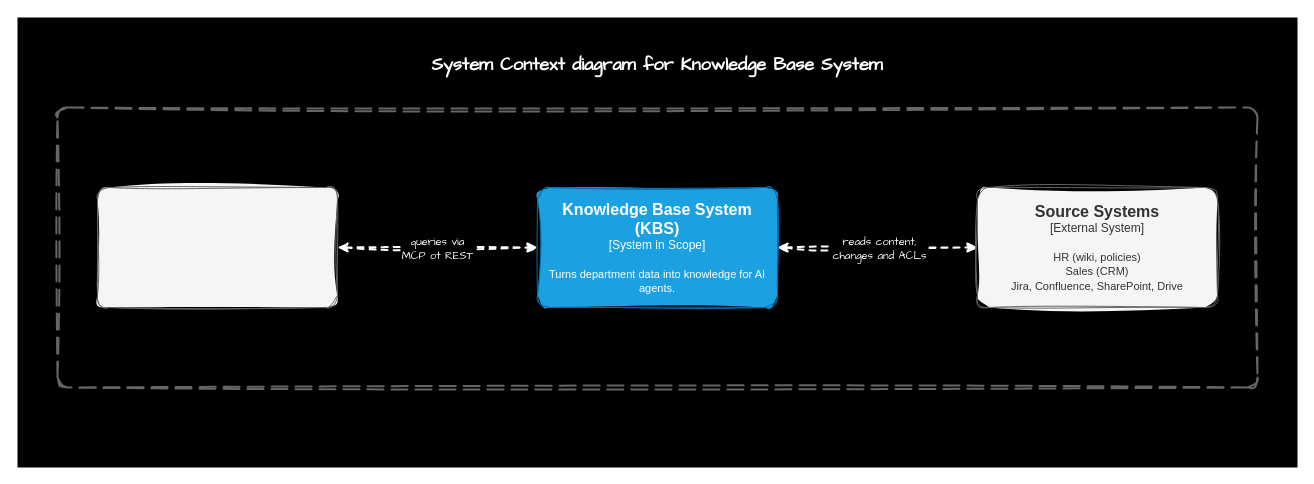
Some shapes in this 1314 by 484 pixel diagram are drawn without their labels. Here are the shapes that lost their labels. From the top down, the box of each, then its label:
(96, 186, 338, 308): AI Agents [External System] HR Chatbot Assistent Roadmap Agent
(56, 106, 1258, 388): Knowledge Base System Context [Software System]
